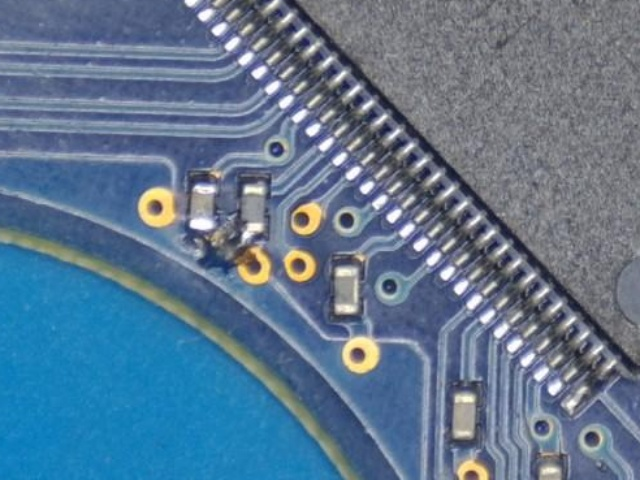pcb_defect: (190, 209, 261, 245)
